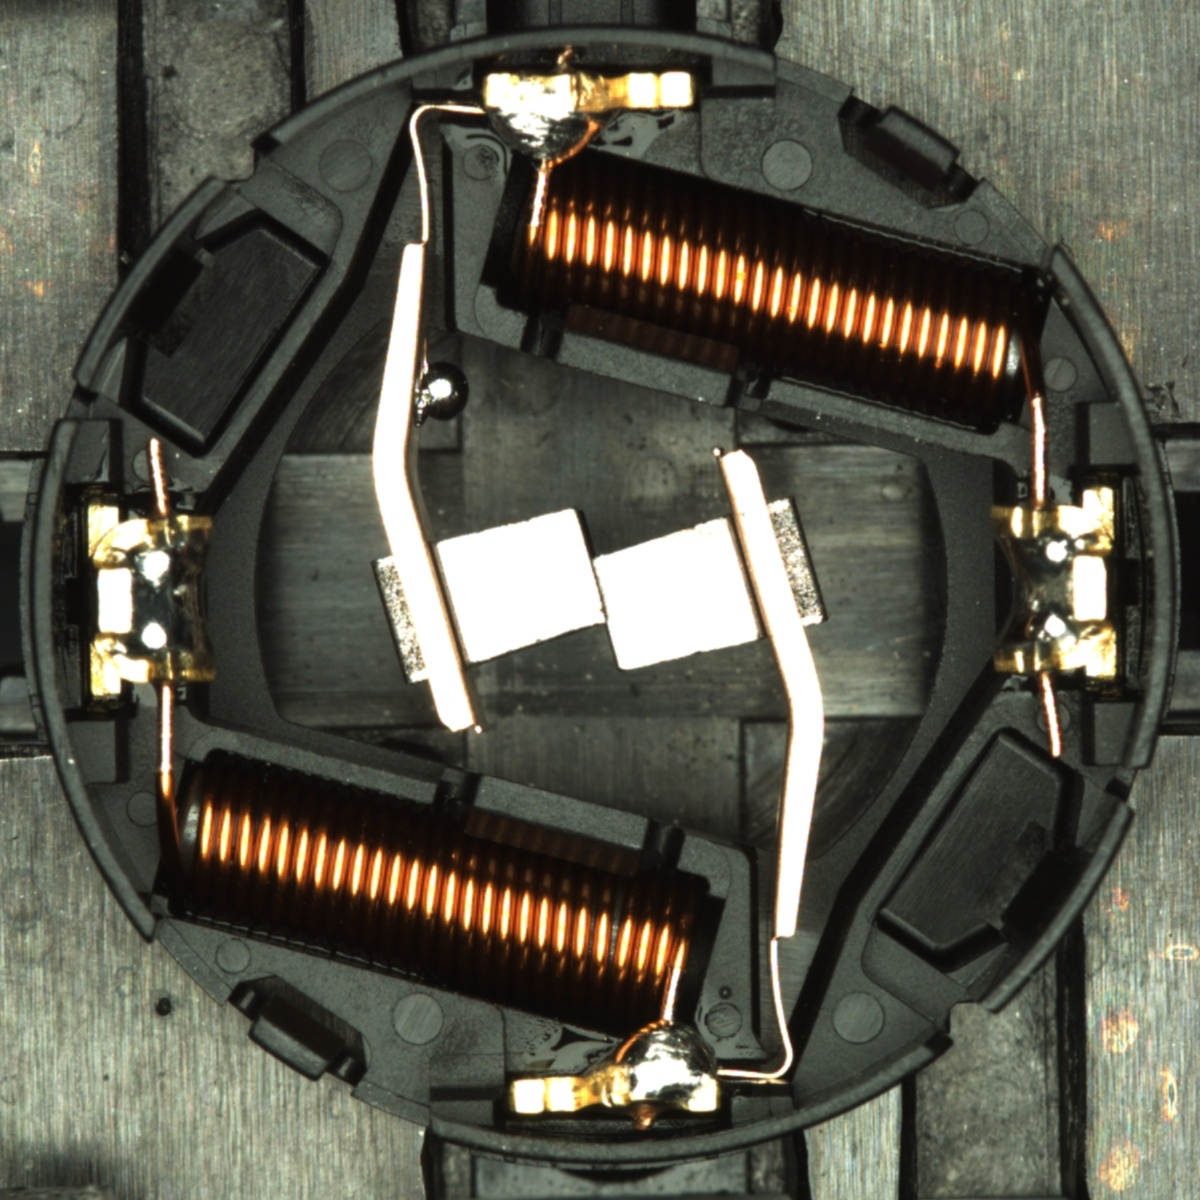1: (253, 29, 482, 253), (712, 927, 941, 1151)
2: (712, 29, 941, 253), (253, 927, 482, 1151)
3: (941, 702, 1170, 927), (24, 253, 253, 478)
4: (712, 702, 941, 927)
5: (482, 141, 712, 366), (482, 814, 712, 1038)
6: (253, 702, 482, 927), (712, 253, 941, 478)
7: (941, 253, 1170, 478), (24, 702, 253, 927)
cacbon: (395, 497, 800, 684)
chau_dien: (79, 498, 220, 700), (984, 486, 1124, 685)
hat_chi: (413, 362, 468, 426)
tay_choi: (481, 69, 699, 171), (509, 1018, 723, 1116)
thanh_de: (954, 787, 1141, 1030), (59, 163, 244, 403)
